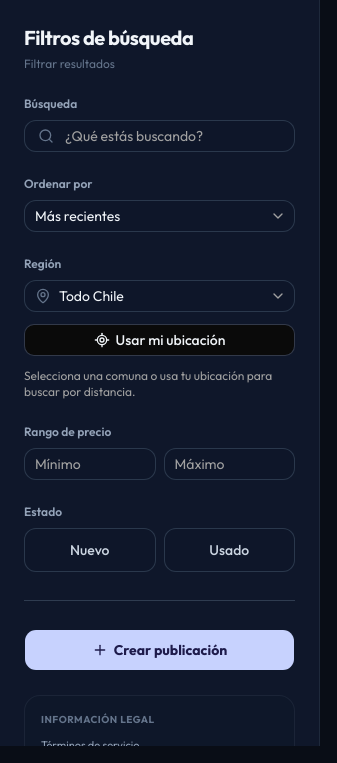
Test: Sidebar - origen del filtro geográfico › mantiene Todo Chile cuando el usuario rechaza el permiso GPS
The image size is (337, 763).
Click the button "Usar mi ubicación".
click(160, 340)  # box 24,324 -> 295,356
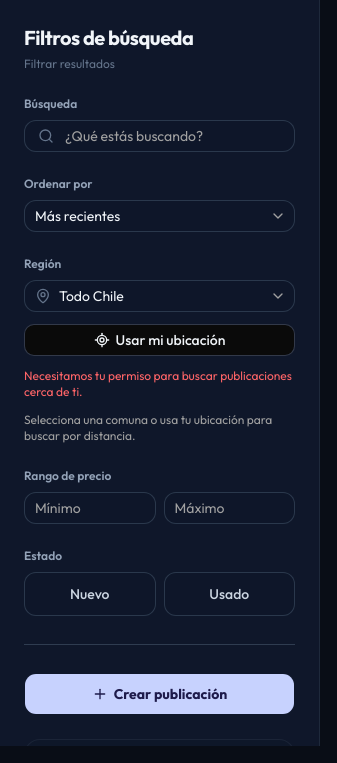
Result: the text "Necesitamos tu permiso para buscar publicaciones cerca de ti." is shown at 24,368 -> 295,400
